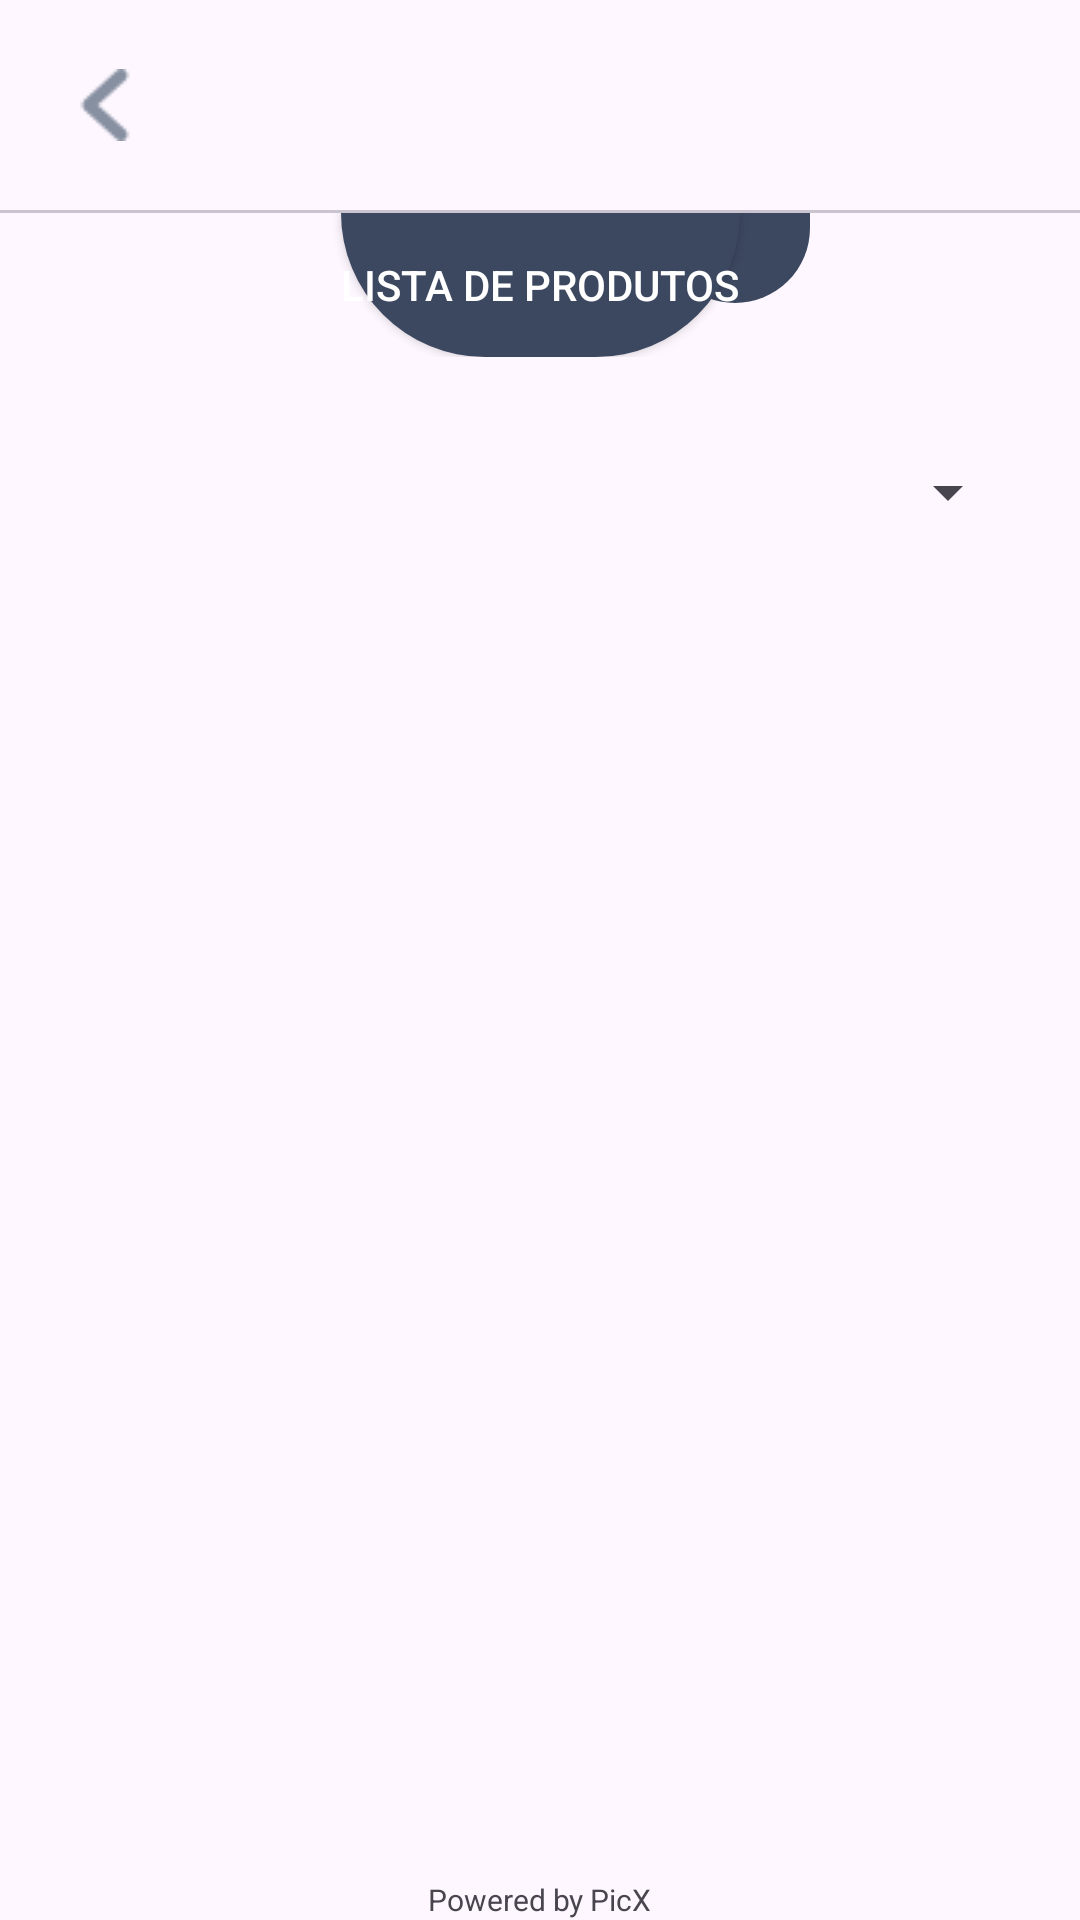

Icon click points for this 1080 × 1920 phone screenshot, format (x,y):
leftarrow: (105,105)
